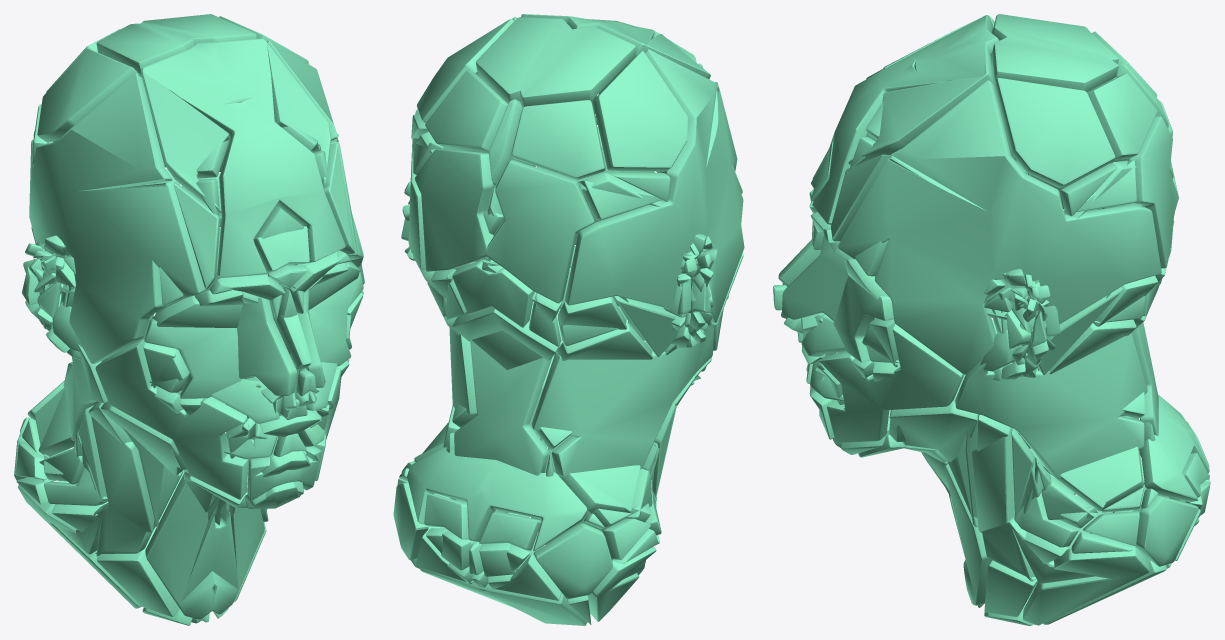
File: genhead.gltf
The picture shows the model from 3 angles, left to right: view 1: azimuth 30°, elevation 25°; view 2: azimuth 150°, elevation 25°; view 3: azimuth 270°, elevation 25°; orthographic projection.
Parts seen in each view (by area): view 1: HEAD; view 2: HEAD; view 3: HEAD.
Part boxes in pixels (bbox=[...]): HEAD: bbox=[14, 14, 364, 625]; HEAD: bbox=[393, 14, 744, 625]; HEAD: bbox=[773, 14, 1210, 625].
Bounding box in the file's own units: 3.7 × 6.73 × 4.63.
